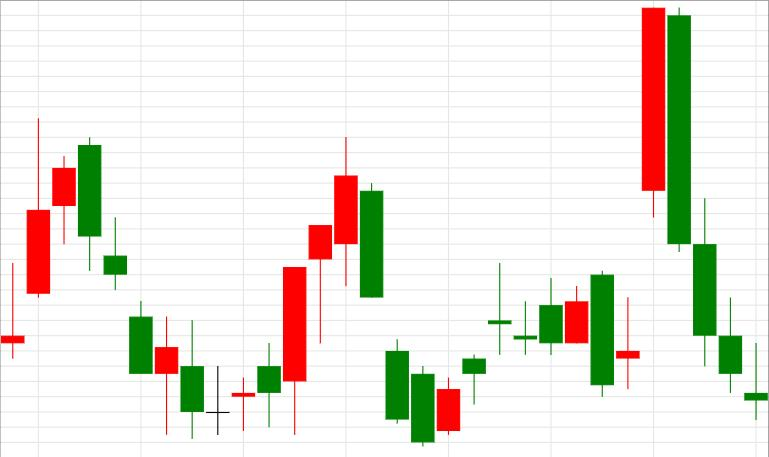bearish_engulfing_fall: (1, 118, 101, 359)
hanging_man_fall: (206, 226, 332, 436)
three_black_crows_fall: (591, 8, 742, 397)
